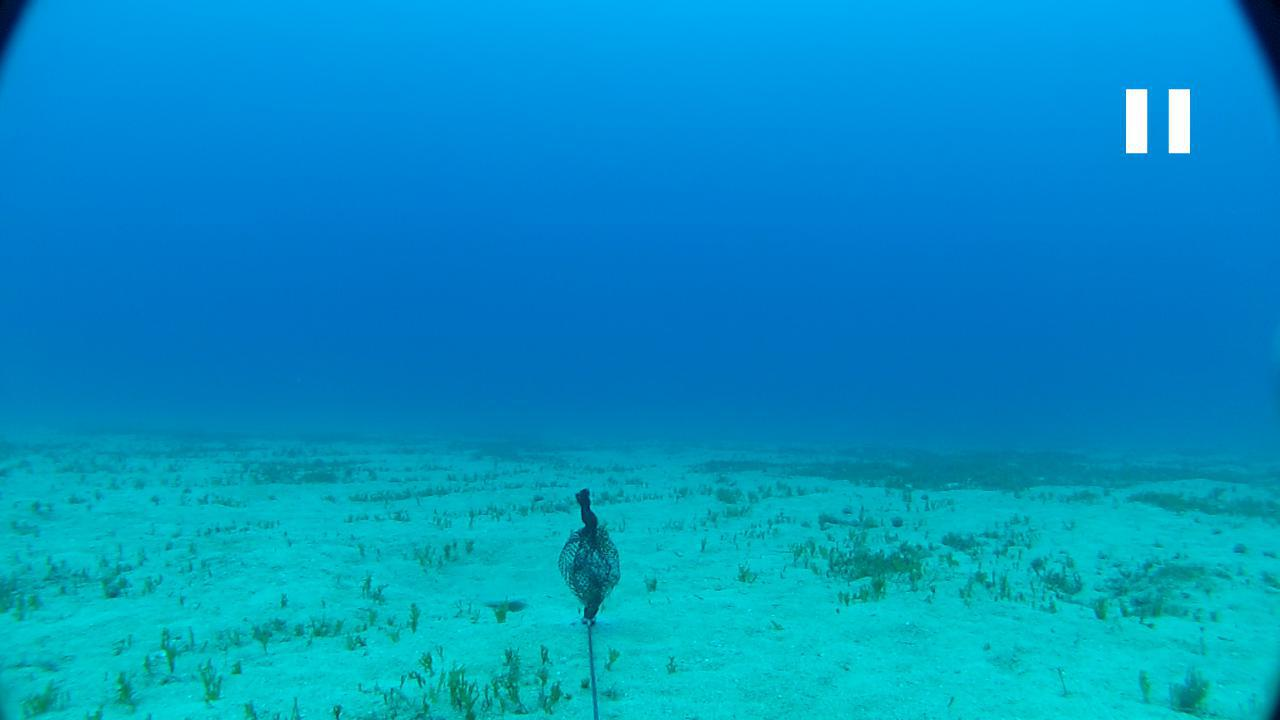bothus: (476, 586, 530, 610)
